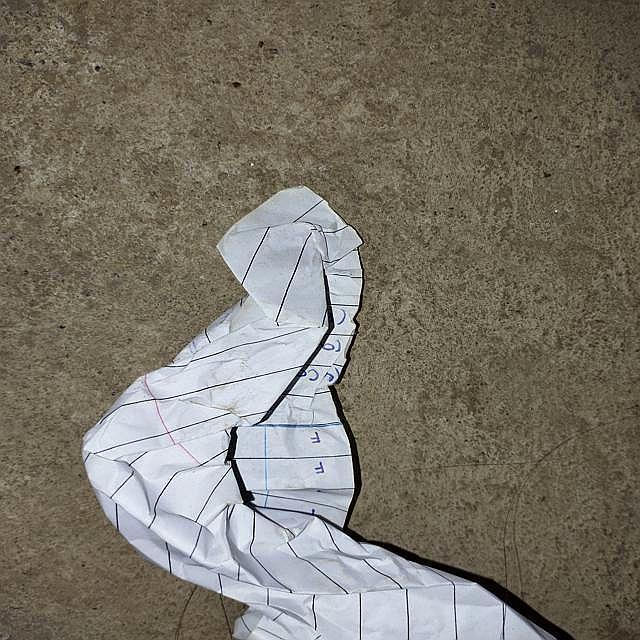Biodegradable: (81, 187, 547, 640)
